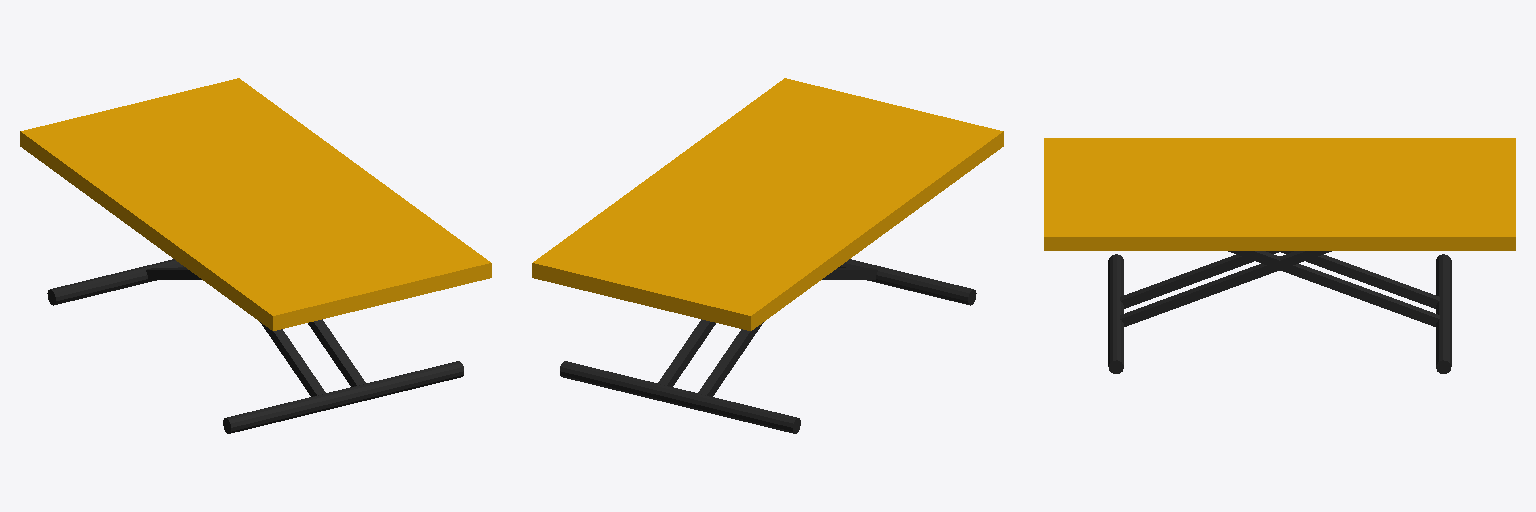
The robot description file, URDF, robot "room610-x-leg-desk-0-robot":
<?xml version="1.0"?>
<robot name="room610-x-leg-desk-0-robot"
       xmlns:xi="http://www.w3.org/2001/XInclude"
       >
  <gazebo>
    <static>false</static>
  </gazebo>
  <link name="nil_link">
    <visual>
      <origin xyz="0 0 0" rpy="0 -0 0"/>
      <geometry>
        <mesh filename="model://room610-x-leg-desk-0/meshes/nil_link_mesh.dae" scale="1 1 1" />
      </geometry>
    </visual>
    <collision>
      <origin xyz="0 0 0" rpy="0 -0 0"/>
      <geometry>
        <mesh filename="model://room610-x-leg-desk-0/meshes/nil_link_mesh.dae" scale="1 1 1" />
      </geometry>
    </collision>
    <inertial>
      <mass value="0.001" />
      <origin xyz="0 0 0" rpy="0 -0 0"/>
      <inertia ixx="1e-03" ixy="0" ixz="0" iyy="1e-03" iyz="0" izz="1e-03"/>
    </inertial>
  </link>
  <gazebo reference="nil_link">
    <mu1>0.9</mu1>
    <mu2>0.9</mu2>
  </gazebo>
</robot>

--- Render facts (derived) ---
Views: 3 orthographic renders of the robot side by side, from view 1: azimuth 30°, elevation 25°; view 2: azimuth 150°, elevation 25°; view 3: azimuth 270°, elevation 25°.
Robot: room610-x-leg-desk-0-robot — 1 links, 0 joints (none); root link nil_link; default pose: every joint at zero.
Visible links, largest first — view 1: nil_link; view 2: nil_link; view 3: nil_link.
Link boxes in pixels (x1,y1,x2,y2): nil_link: [20, 78, 491, 433]; nil_link: [532, 78, 1003, 433]; nil_link: [1044, 138, 1515, 373].
Size in the robot's own frame: 0.64 by 1.2 by 0.377 metres.
1 mesh visuals loaded from 1 distinct referenced files (1 Collada DAE).